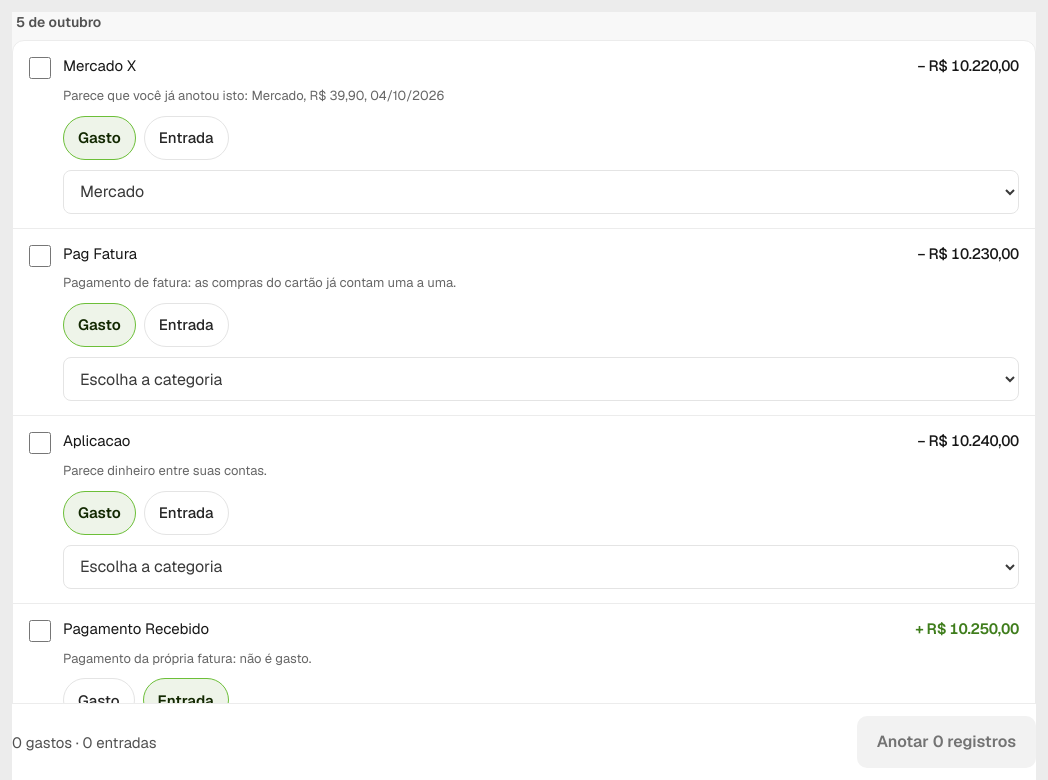
Test case: motivos: já anotada, fatura, transferência, pagamento no cartão; começam desmarcadas e dá para marcar
Check: the text "Parece que você já anotou isto: Mercado, R$ 39,90, 04/10/2026" is shown, box [63, 87, 444, 104]
Check: the text "Pagamento de fatura: as compras do cartão já contam uma a uma." is shown, box [63, 274, 456, 291]
Click the checkbox labelled "Mercado X − R$ 10.220,00" at x=40, y=68, box [29, 57, 51, 79]
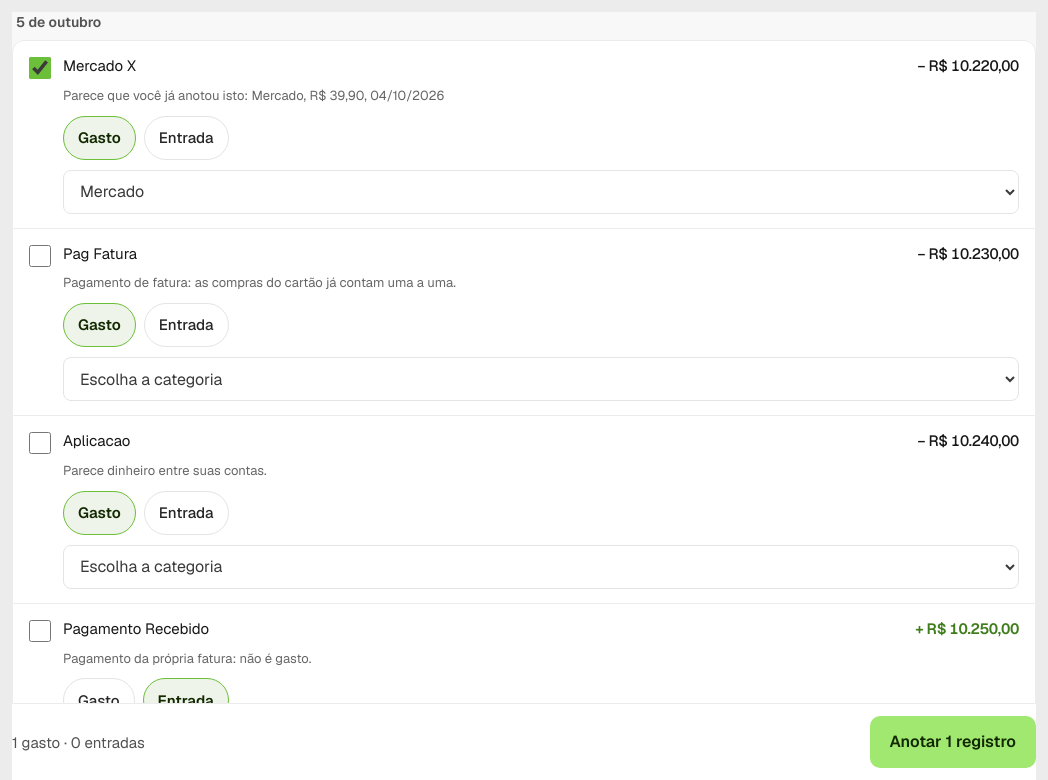
Check: the button "Anotar 1 registro" is shown, box [870, 716, 1036, 768]
Check: the button "Anotar 1 registro" is enabled, box [870, 716, 1036, 768]
